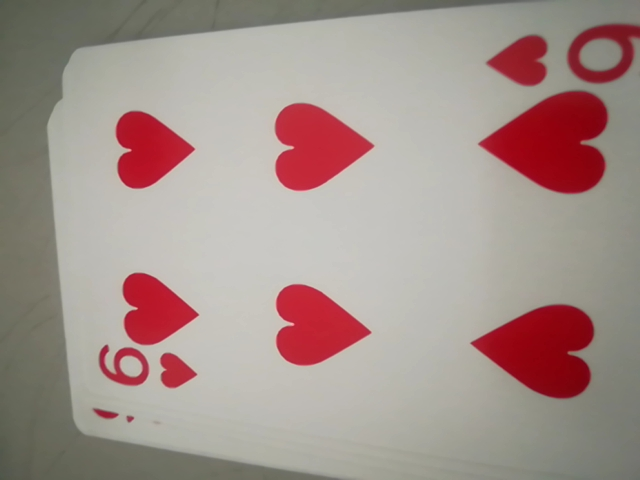hx 6: (94, 340, 201, 394)
